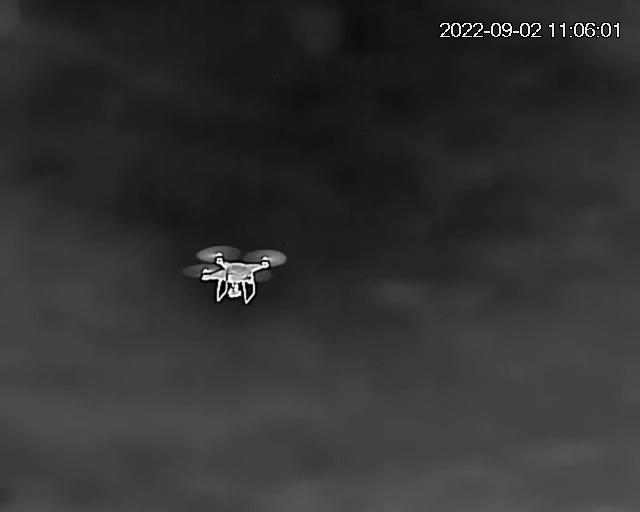DJI-Phantom: (180, 245, 285, 306)
